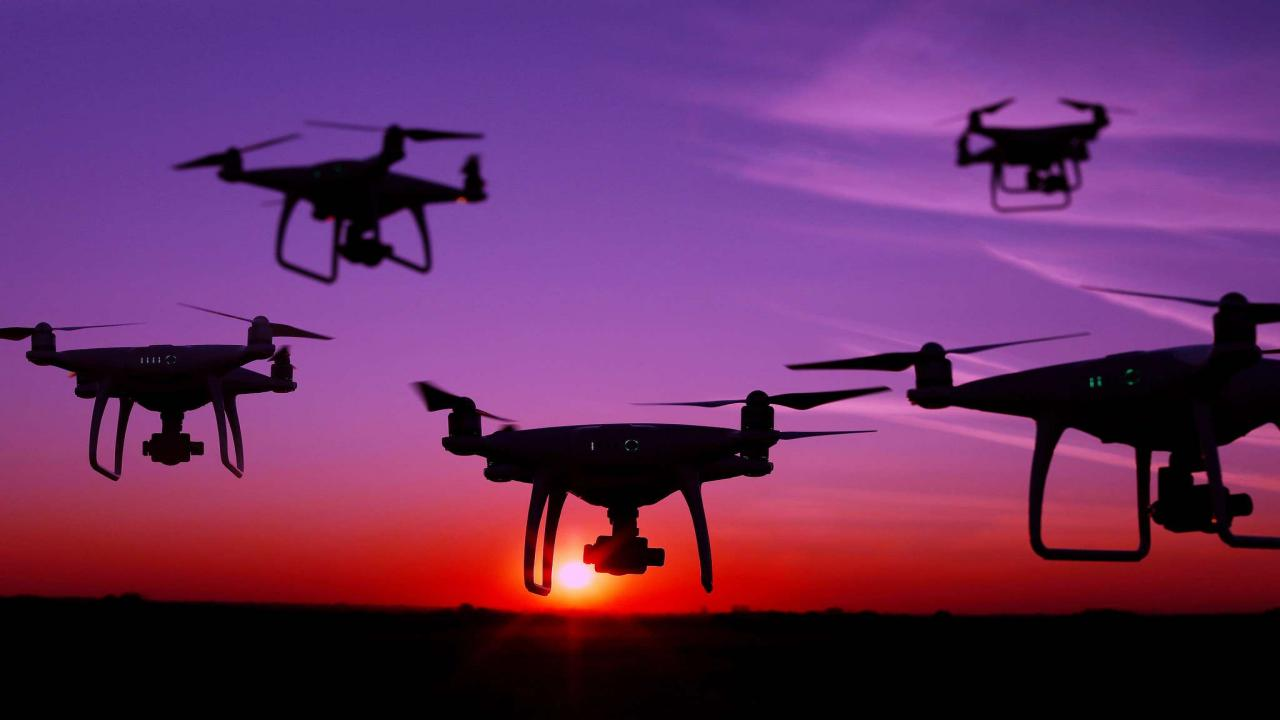Drone: (772, 273, 1280, 578), (391, 354, 902, 604), (0, 300, 347, 491), (157, 110, 516, 292), (916, 79, 1152, 222)
